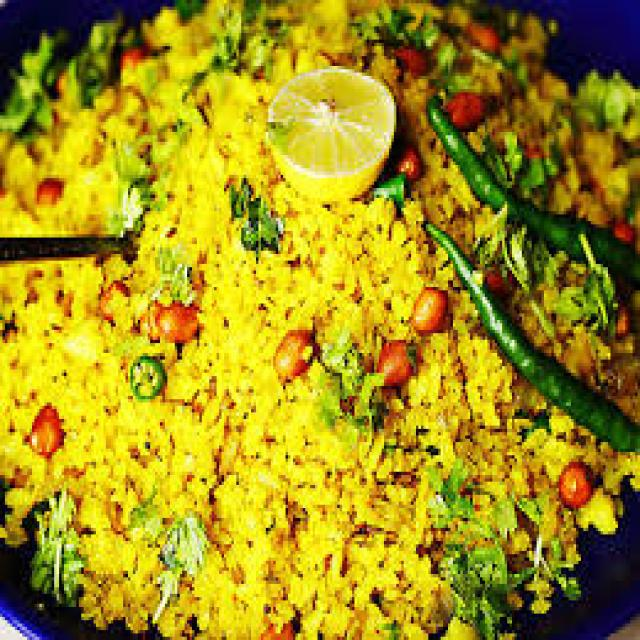POHA: (0, 0, 638, 637)
